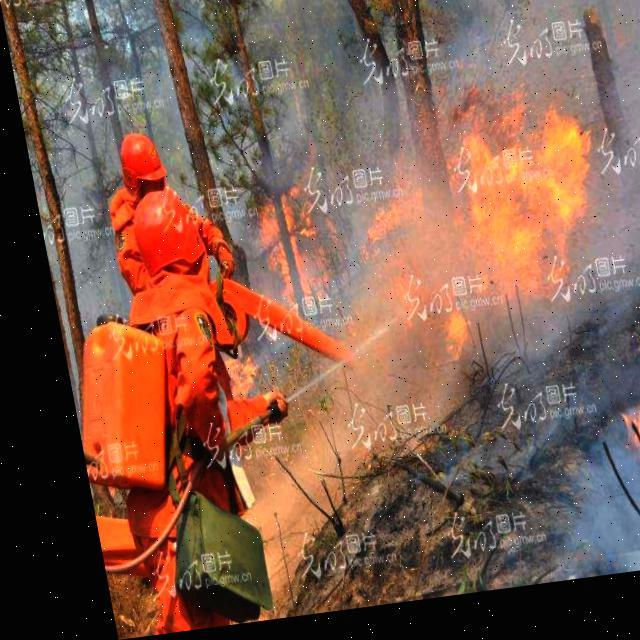Fire: (428, 98, 594, 312), (348, 176, 462, 385), (240, 164, 334, 324)
